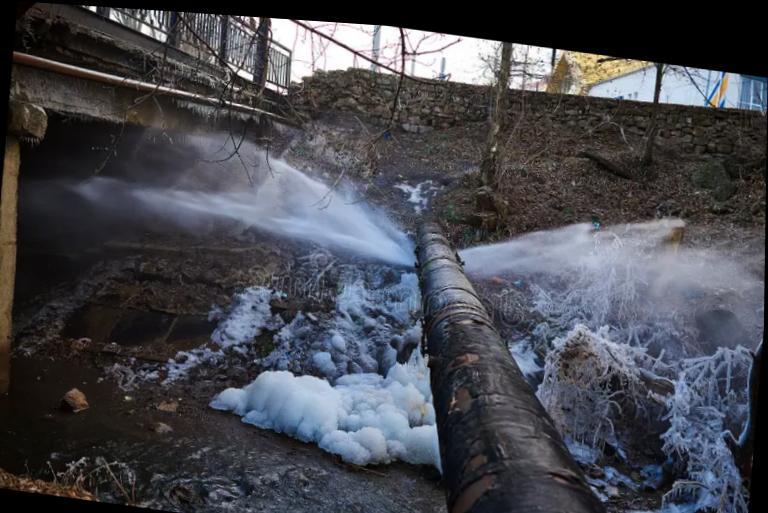leak: (48, 111, 419, 265), (454, 216, 745, 308)
